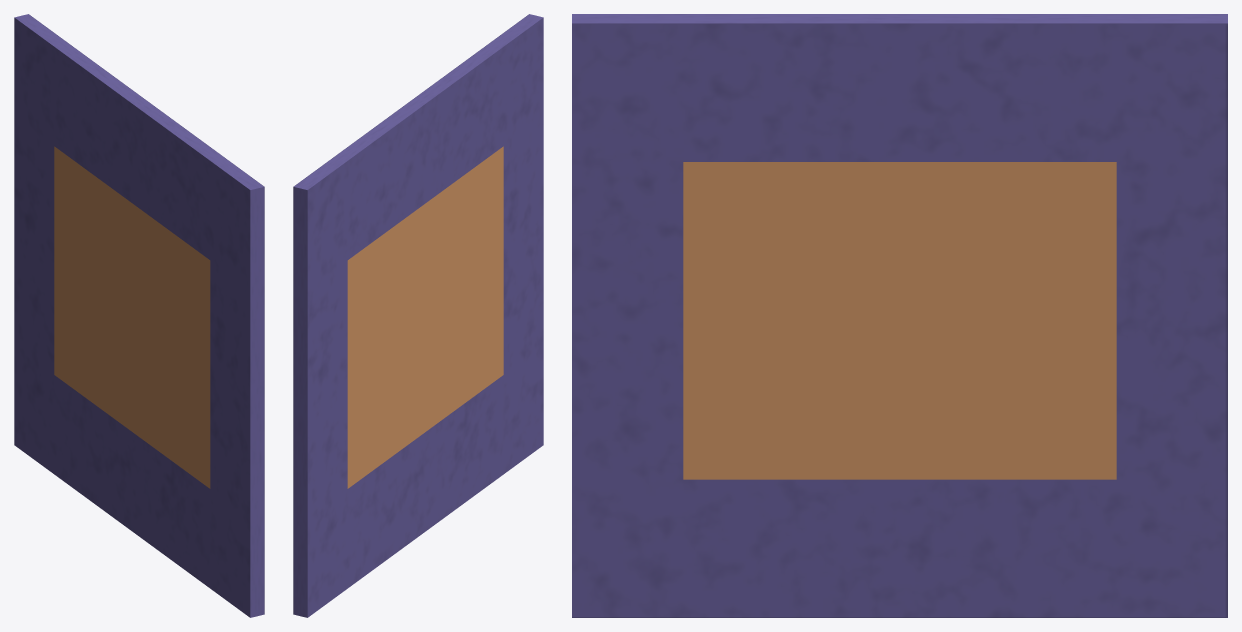
The model's file is WallWithWindow.fbx.
3 views of the same model, side by side, from view 1: azimuth 30°, elevation 25°; view 2: azimuth 150°, elevation 25°; view 3: azimuth 270°, elevation 25° (orthographic). The views are drawn at different scales.
Parts seen in each view (by area): view 1: Cube.009, Cube.010; view 2: Cube.009, Cube.010; view 3: Cube.009, Cube.010.
Boxes of the visible parts, x1,y1,x2,y2 form: Cube.009: (14, 14, 264, 617); Cube.010: (54, 146, 210, 488); Cube.009: (293, 14, 543, 617); Cube.010: (347, 146, 503, 488); Cube.009: (572, 14, 1227, 617); Cube.010: (683, 162, 1116, 479).
Size of the model in its own units: 13.34 by 384 by 384.
